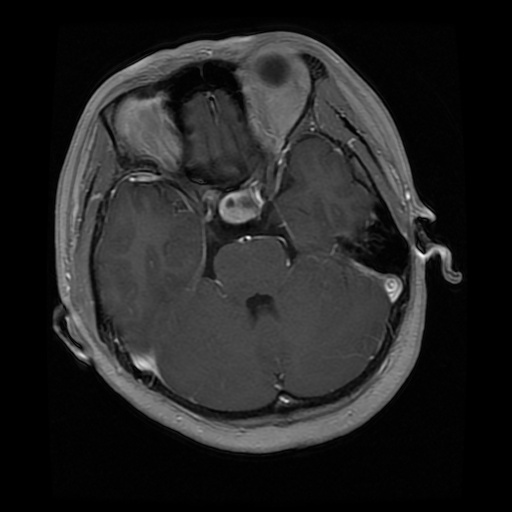pituitary: (219, 187, 263, 223)
